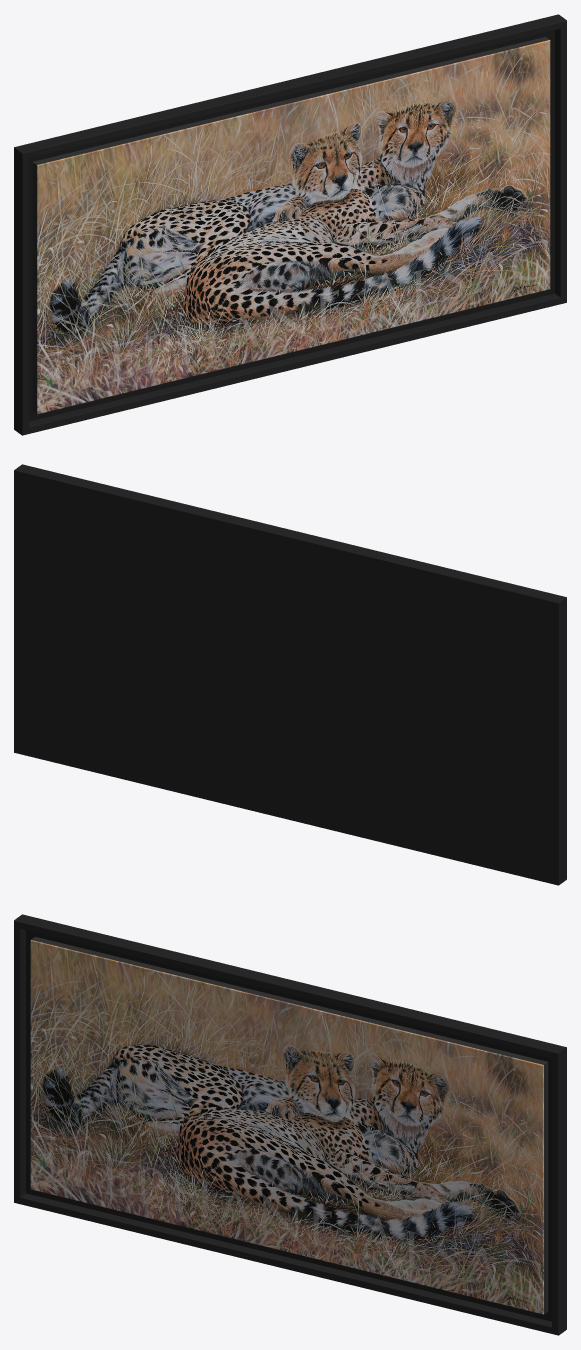
File: tableau-toile-guepards-grand-8e53bd85.glb
3 renders of one model, top to bottom at view 1: azimuth 30°, elevation 25°; view 2: azimuth 150°, elevation 25°; view 3: azimuth 330°, elevation 25°, orthographic.
Parts seen in each view (by area): view 1: Painting; view 2: Painting; view 3: Painting.
Part boxes in pixels (x1,y1,x2,y2): Painting: (14, 14, 566, 435); Painting: (14, 464, 566, 885); Painting: (14, 914, 566, 1335).
Bounding box in the file's own units: 1.49 × 0.736 × 0.04.
4 materials, 2 textured.
